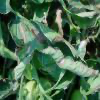Tomato leaf bacterial spot: (7, 6, 98, 83)
